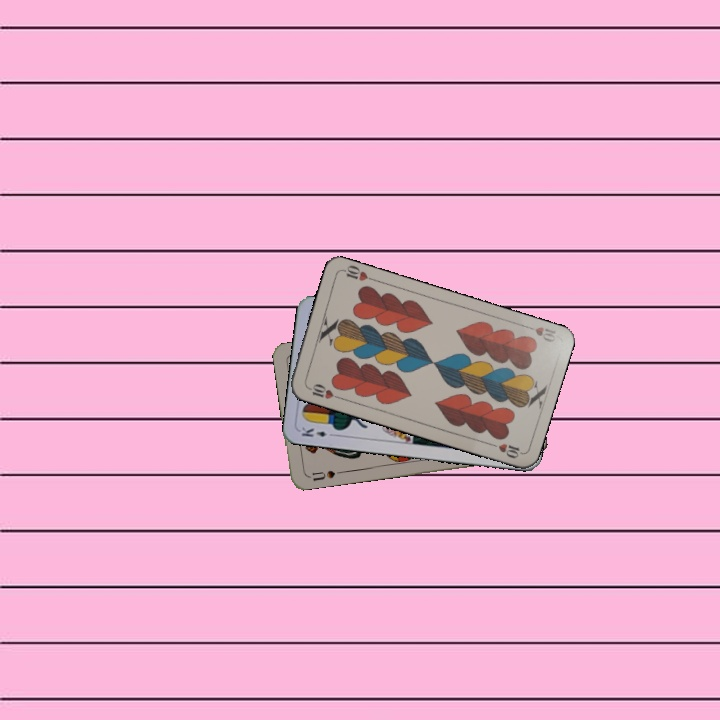EK: (297, 423, 338, 440)
H10: (520, 320, 558, 345), (303, 380, 343, 402)
SU: (304, 466, 338, 483)
